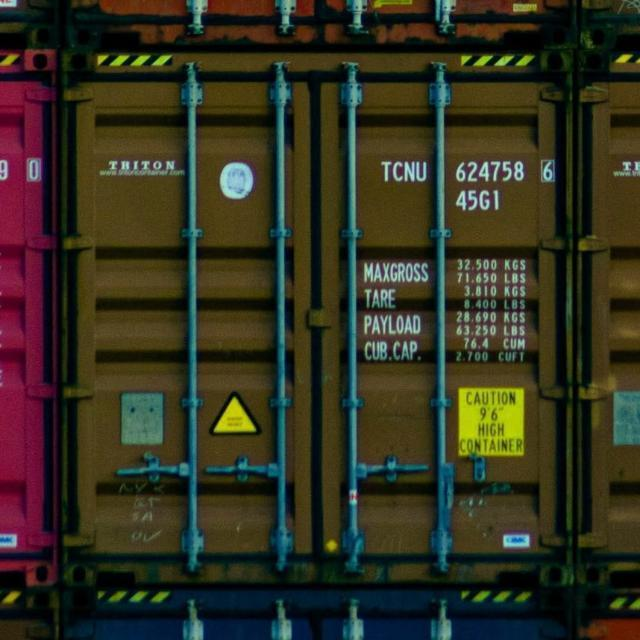ISO: (456, 187, 504, 212)
container_number: (384, 156, 554, 186)
